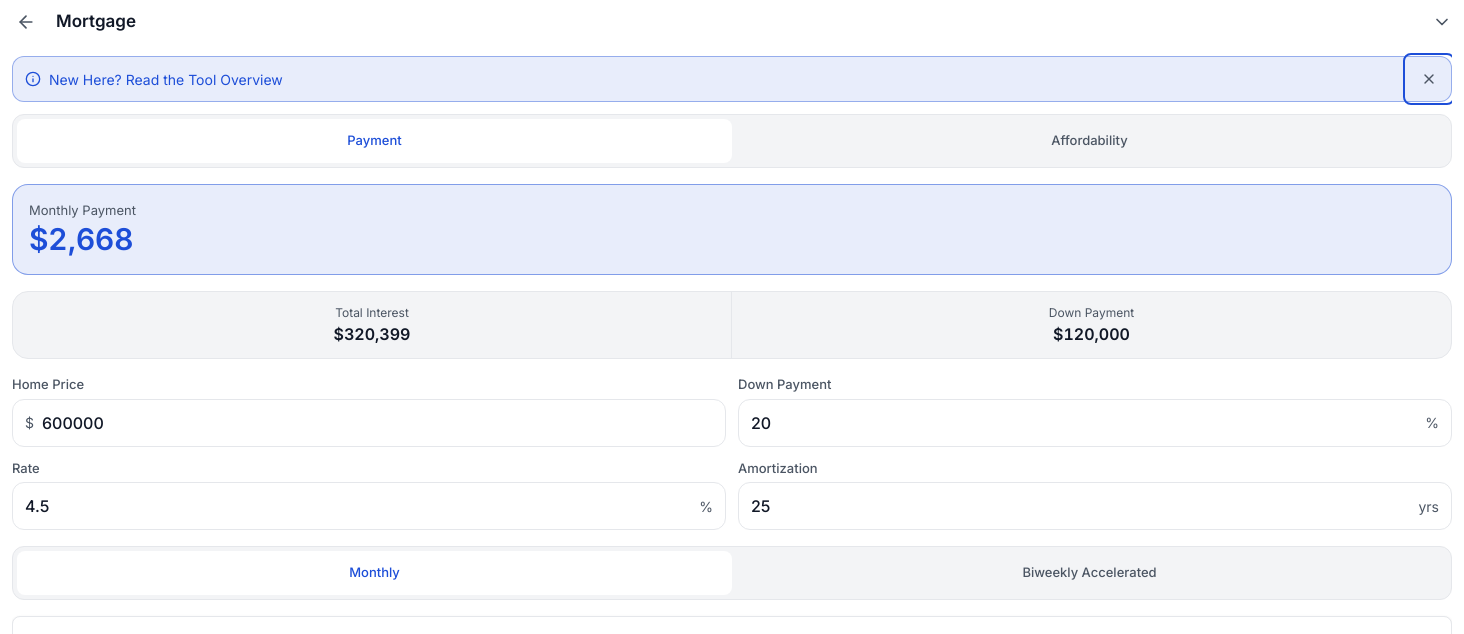
Test: PlannerTool tool-overview focus on a phone › moves focus to the bottom button after Dismiss
The image size is (1464, 634).
Click the button named "Dismiss": (1429, 79) top-left (1407, 57), bottom-right (1451, 101)
(page scrolled)
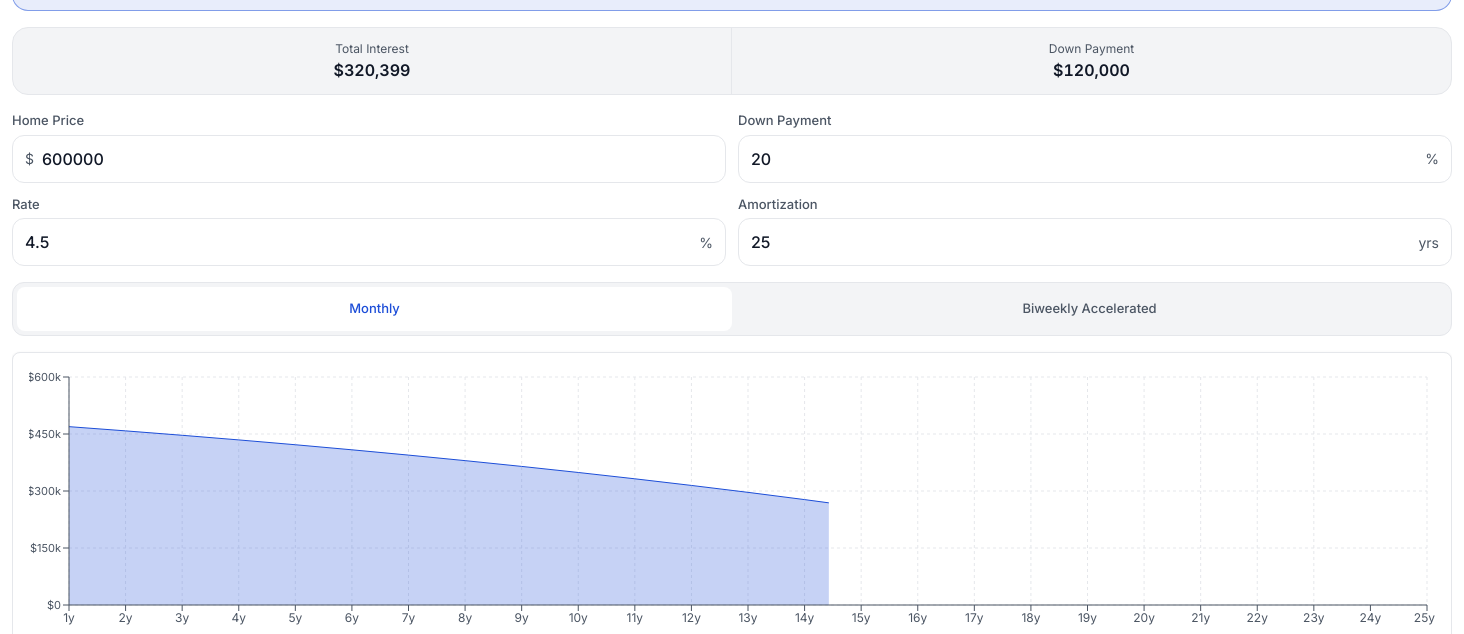
Expected: the button "Dismiss" is gone
